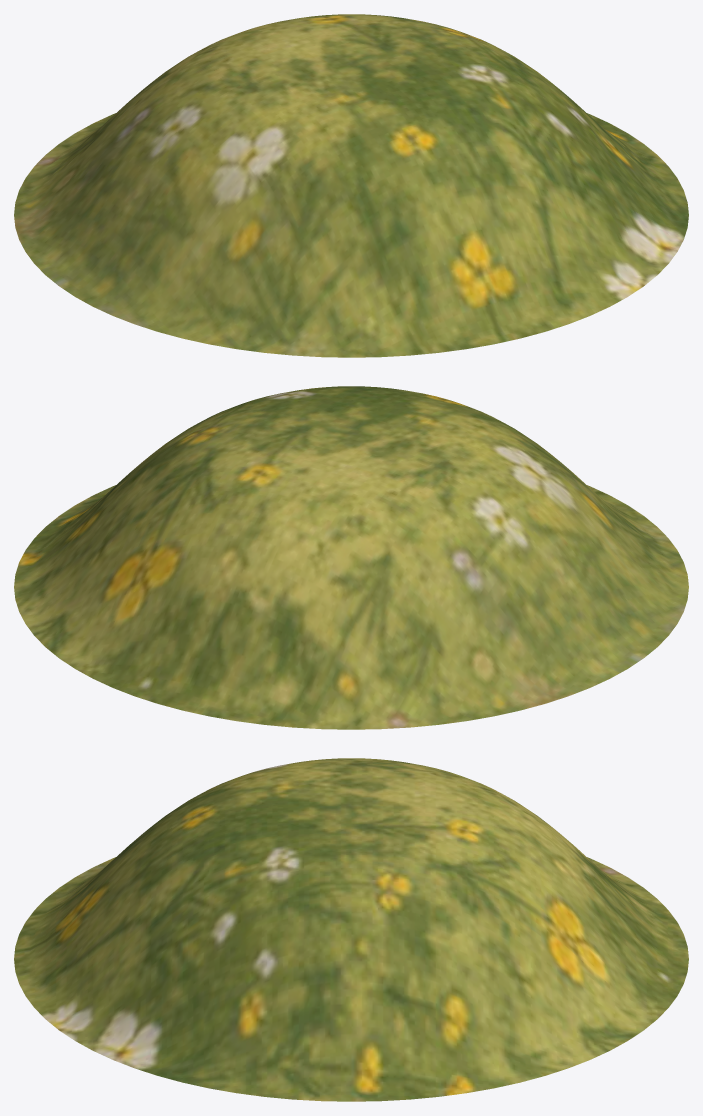
File: gourd-prop-knoll.glb
3 renders of one model, top to bottom at view 1: azimuth 30°, elevation 25°; view 2: azimuth 150°, elevation 25°; view 3: azimuth 270°, elevation 25°, orthographic.
Visible parts, largest first — view 1: knoll; view 2: knoll; view 3: knoll.
Part boxes in pixels (<box>): knoll: <box>14,14,688,357</box>; knoll: <box>14,386,688,729</box>; knoll: <box>14,758,688,1101</box>.
Bounding box in the file's own units: 0.2 × 0.05 × 0.2.
Materials: 1 (1 with a texture image).
